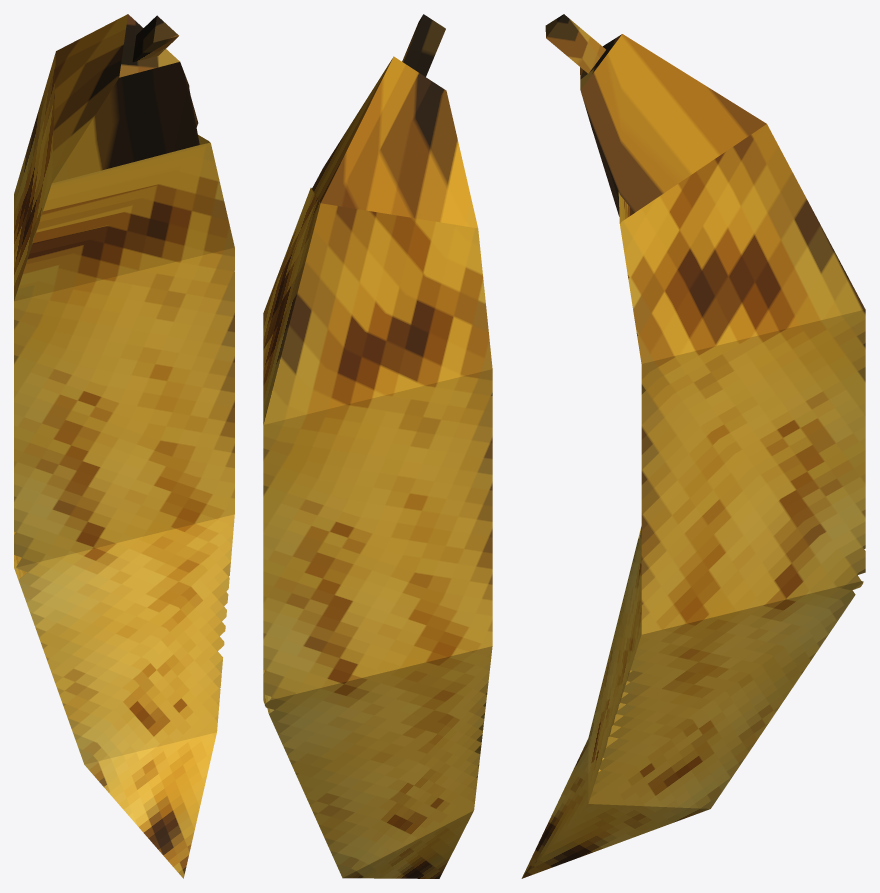
File: banana.fbx
The picture shows the model from 3 angles, left to right: view 1: azimuth 30°, elevation 25°; view 2: azimuth 150°, elevation 25°; view 3: azimuth 270°, elevation 25°; orthographic projection. The views are drawn at different scales.
Visible parts, largest first — view 1: banana; view 2: banana; view 3: banana.
Boxes of the visible parts, left/top/right/bottom form: banana: left=14, top=14, right=234, bottom=878; banana: left=263, top=14, right=492, bottom=878; banana: left=521, top=14, right=865, bottom=878.
Bounding box in the file's own units: 75.83 × 279 × 101.
